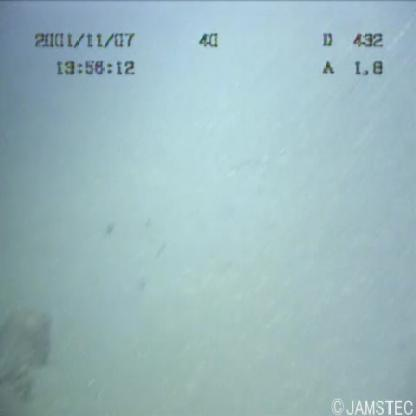Rác: (1, 297, 64, 388)
